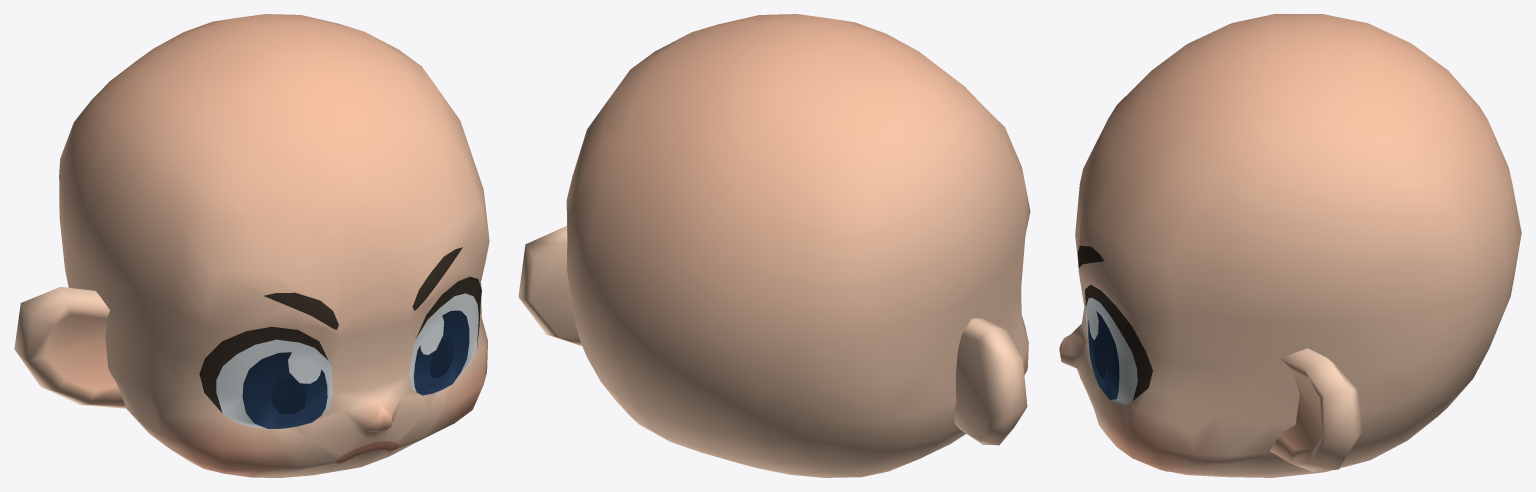
3 renders of one model, left to right at view 1: azimuth 30°, elevation 25°; view 2: azimuth 150°, elevation 25°; view 3: azimuth 270°, elevation 25°, orthographic. The views are drawn at different scales.
Parts seen in each view (by area): view 1: Face_A2; view 2: Face_A2; view 3: Face_A2.
Boxes of the visible parts, <box> form: Face_A2: <box>14,14,489,477</box>; Face_A2: <box>518,14,1030,477</box>; Face_A2: <box>1059,14,1521,477</box>.
Bounding box in the file's own units: 81.66 × 66.4 × 68.58.
